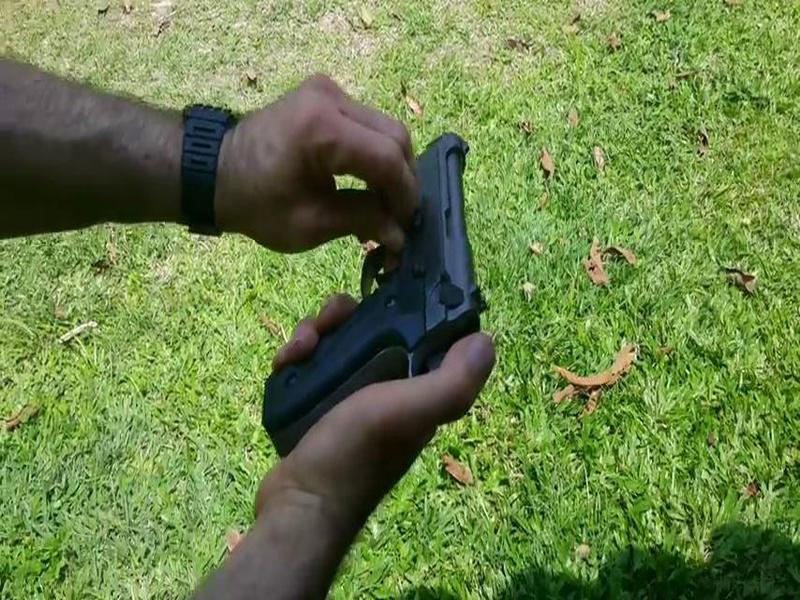Pistola: (263, 122, 500, 465)
